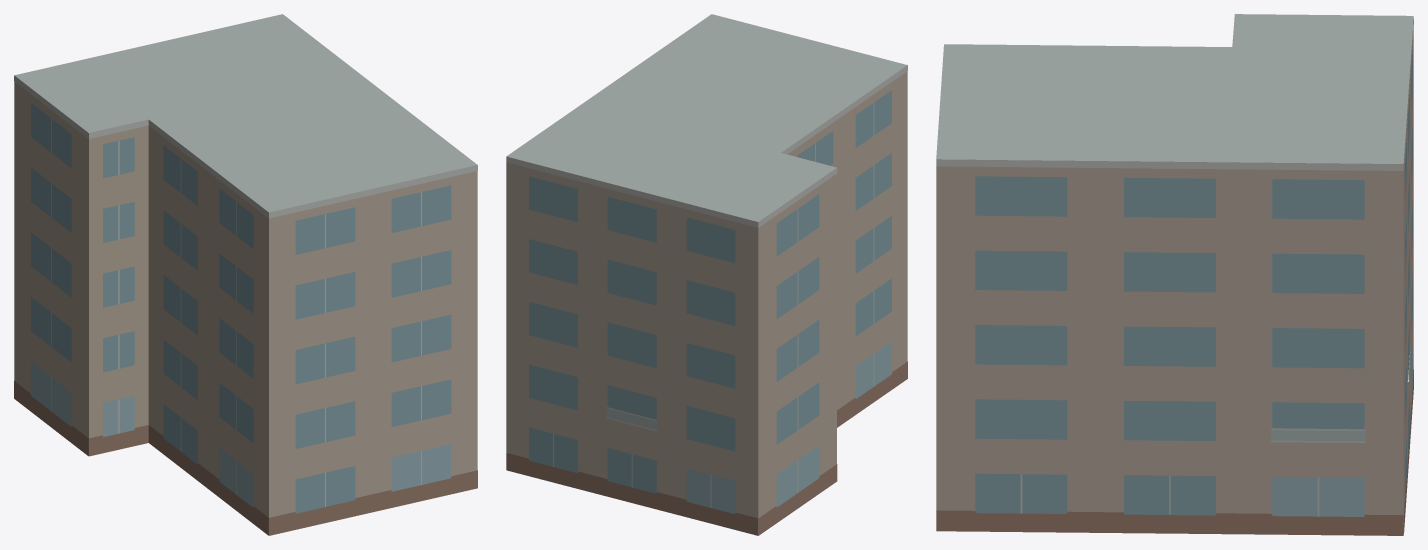
Rendered from survey-upis-32778509.glb.
3 views of the same model, side by side, from view 1: azimuth 30°, elevation 25°; view 2: azimuth 150°, elevation 25°; view 3: azimuth 270°, elevation 25° (orthographic). The views are drawn at different scales.
Parts seen in each view (by area): view 1: survey-upis-32778509.tmp; view 2: survey-upis-32778509.tmp; view 3: survey-upis-32778509.tmp.
Part boxes in pixels (x1,y1,x2,y2): survey-upis-32778509.tmp: (14, 14, 477, 535); survey-upis-32778509.tmp: (506, 14, 907, 535); survey-upis-32778509.tmp: (936, 14, 1413, 535).
Bounding box in the file's own units: 11.36 × 13.1 × 15.26.
